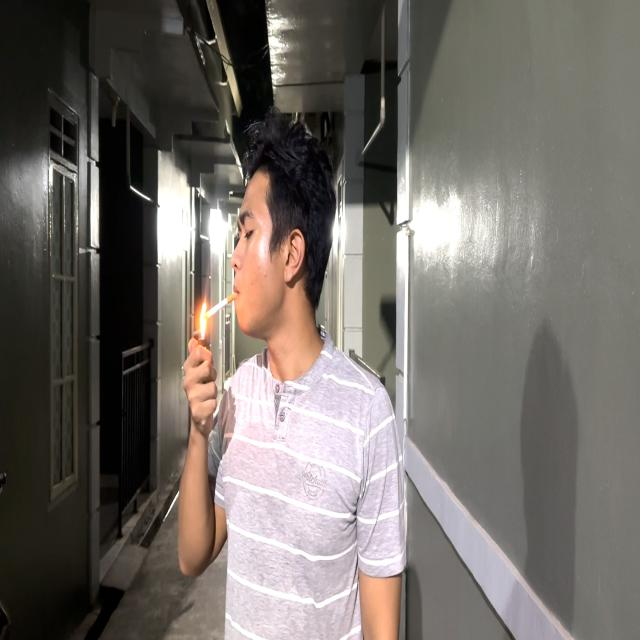cigarette: (204, 288, 238, 323)
smoking: (172, 109, 340, 586)
